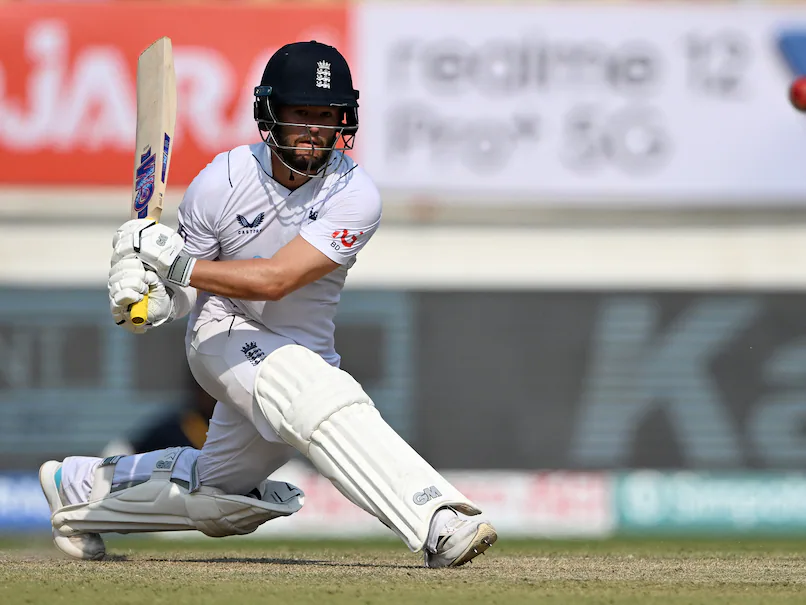Sweepshot: (24, 24, 598, 585)
